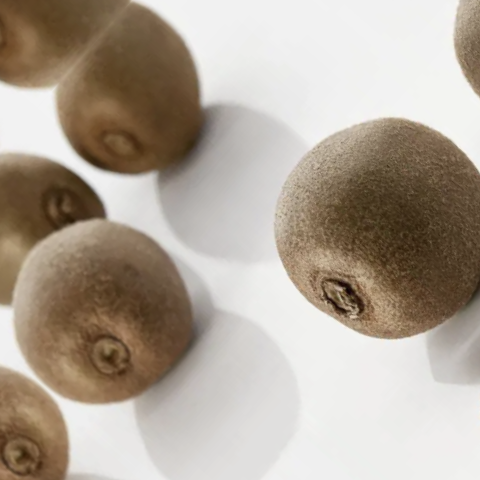kiwi: (209, 49, 480, 404), (0, 163, 257, 453)
